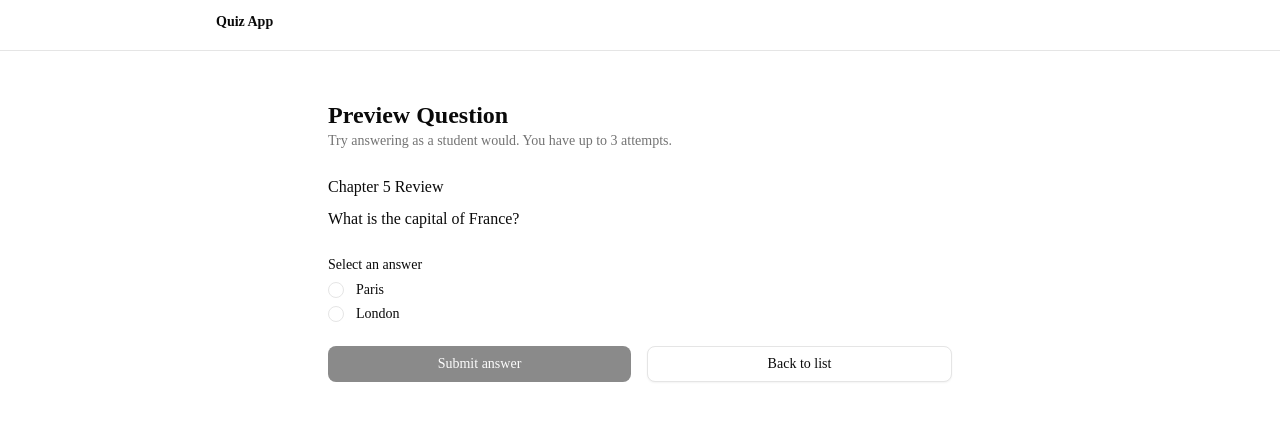
McqPreview › shows correct feedback after a successful first attempt
Click the radio button named "Paris" next to "Paris".
click(336, 290)  # box [328,282,344,298]
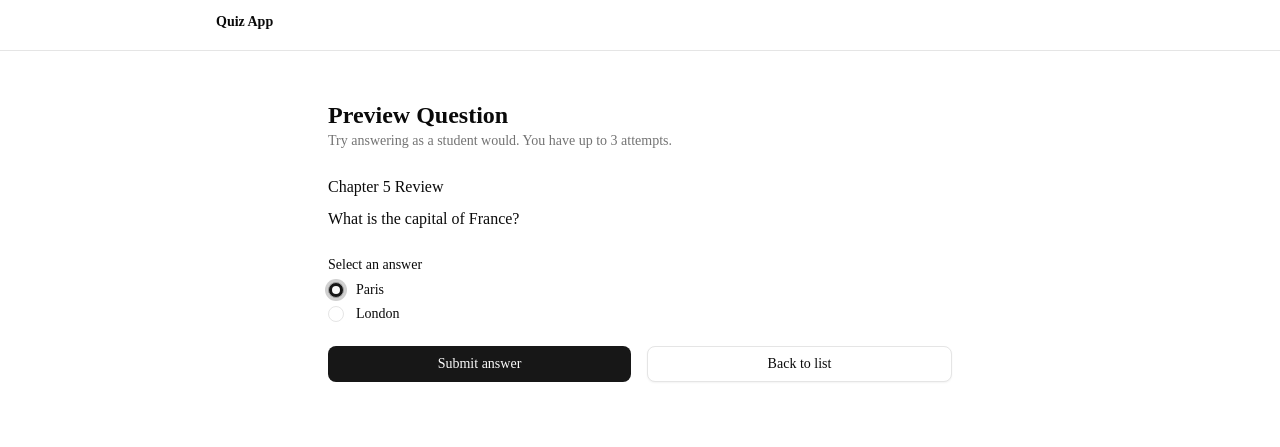
Click the button "Submit answer".
click(480, 364)  # box [328,346,631,382]
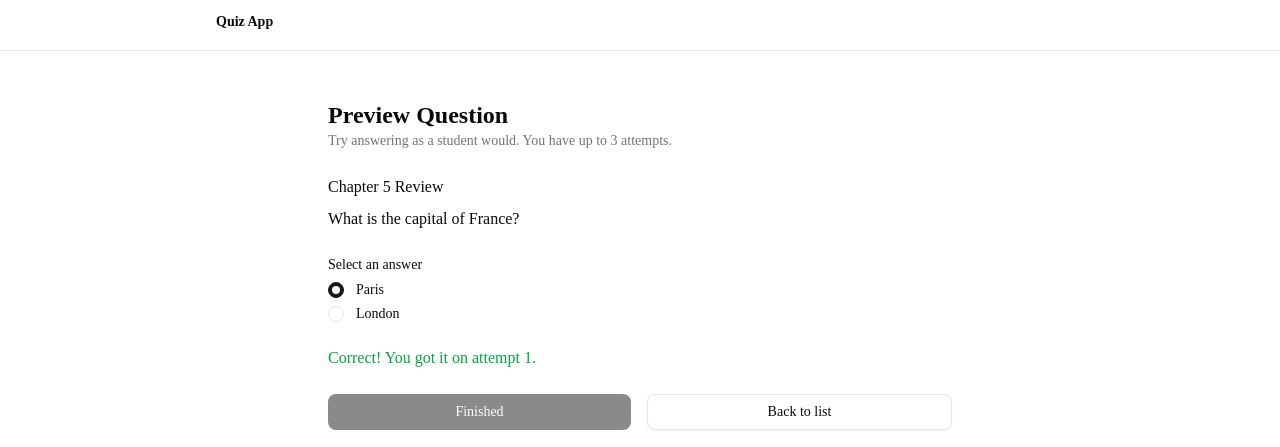
Result: the text "Correct! You got it on attempt 1." is shown at [328,349,536,366]
Result: the button "Finished" is disabled at [328,394,631,430]
